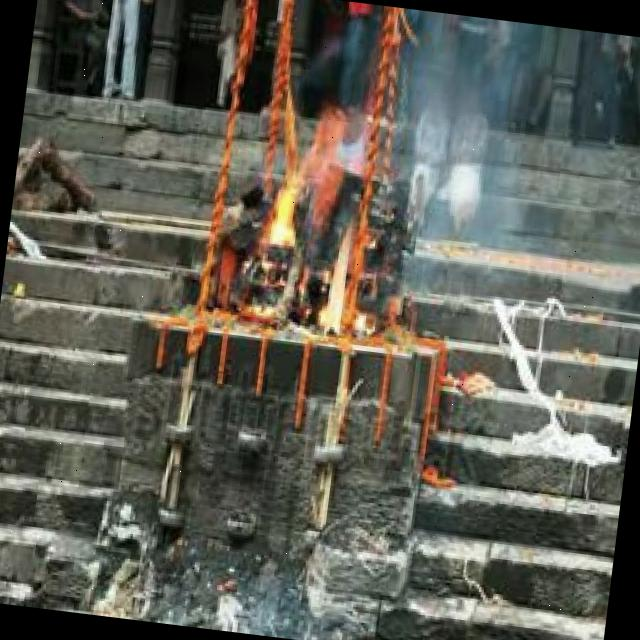fire: (258, 103, 378, 339)
